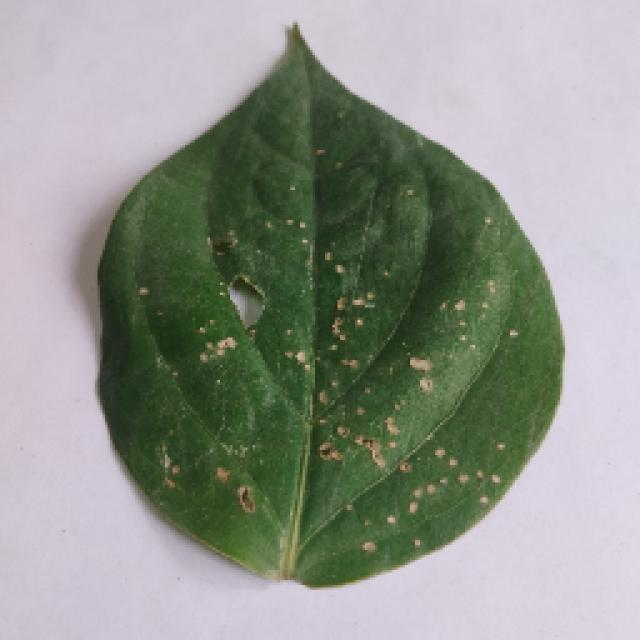pollu-disease: (62, 30, 580, 590)
